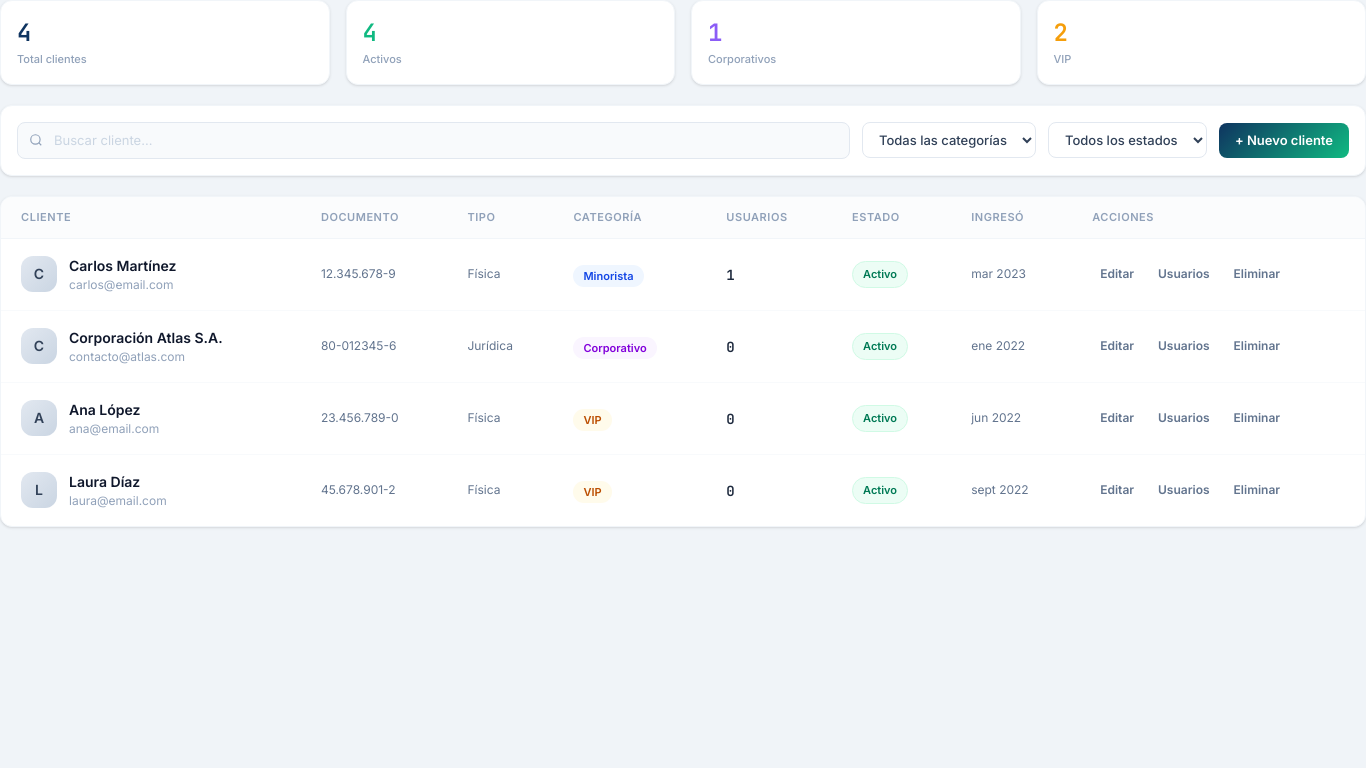
Test: Clients (CRUD de clientes admin) › filtra clientes por categoría
The width and height of the screenshot is (1366, 768).
Expected: the text "Carlos Martínez" is shown, [69,254,176,276]
Step 1. Select "VIP" in the 1st dropdown → (949, 140), box [862,122,1036,158]
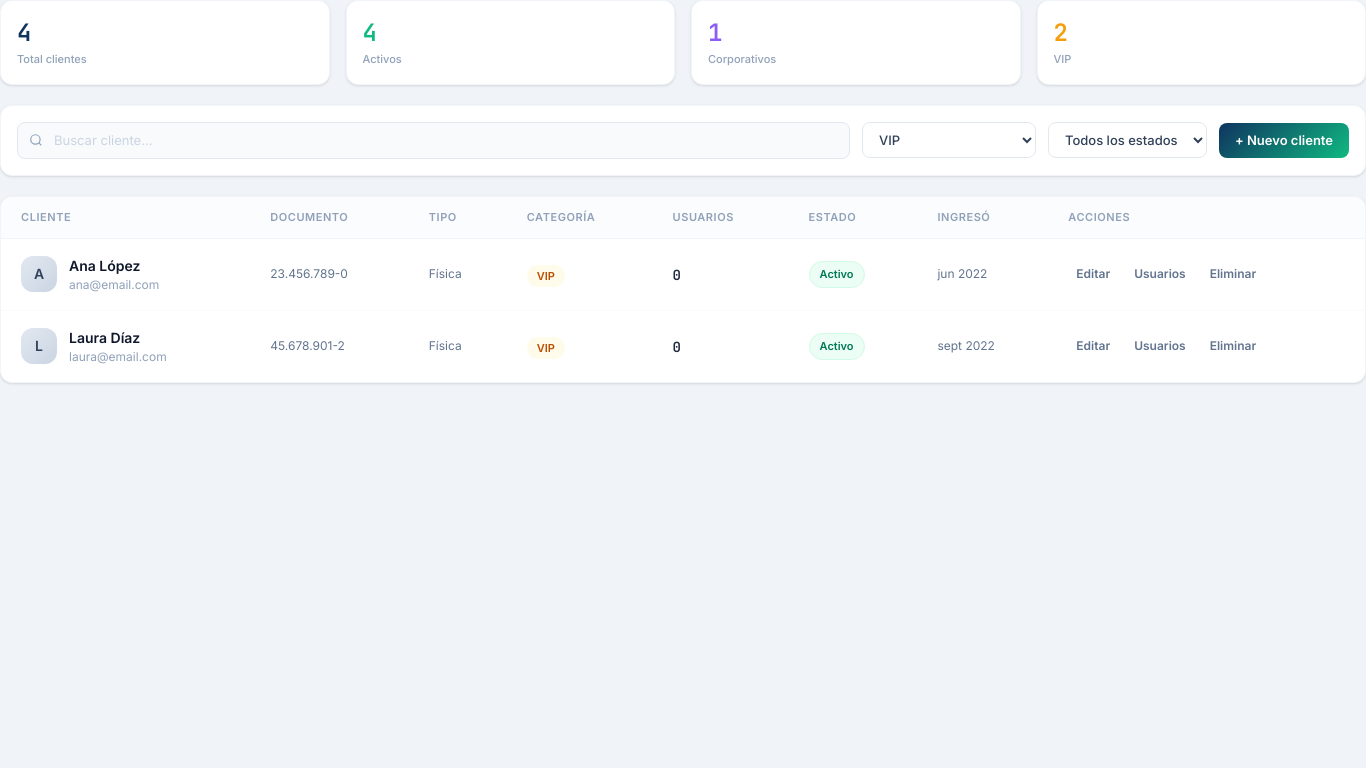
Expected: the text "Ana López" is shown, [69,256,140,274]
Now the text "Carlos Martínez" is gone
